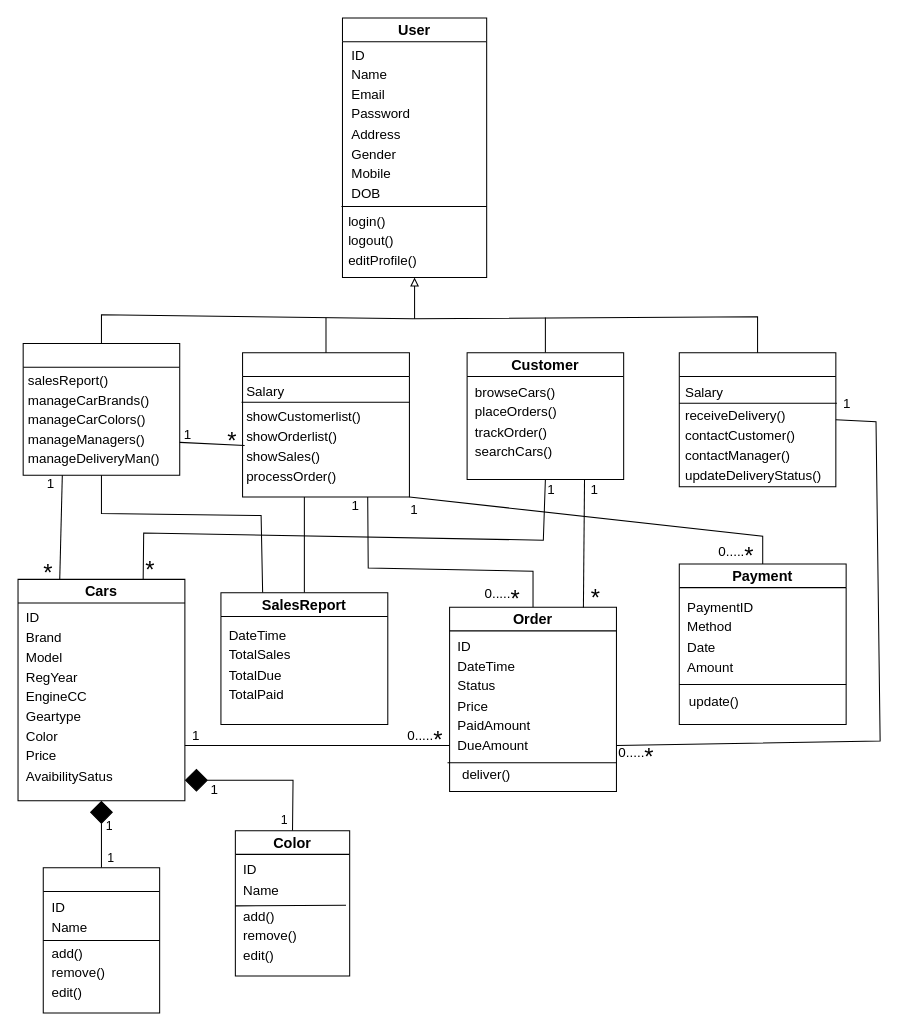
The diagram is 899 pixels wide and 1031 high, and some of its shapes have lost their labels. The shapes that lost their labels are listed below. From the top down, each one's box as (x1, y1, x2, y2) in pixels, then its label:
(22, 342, 180, 475): Admin
(242, 352, 409, 497): Manager
(678, 352, 836, 487): Delivery Man
(42, 867, 160, 1013): Brand
